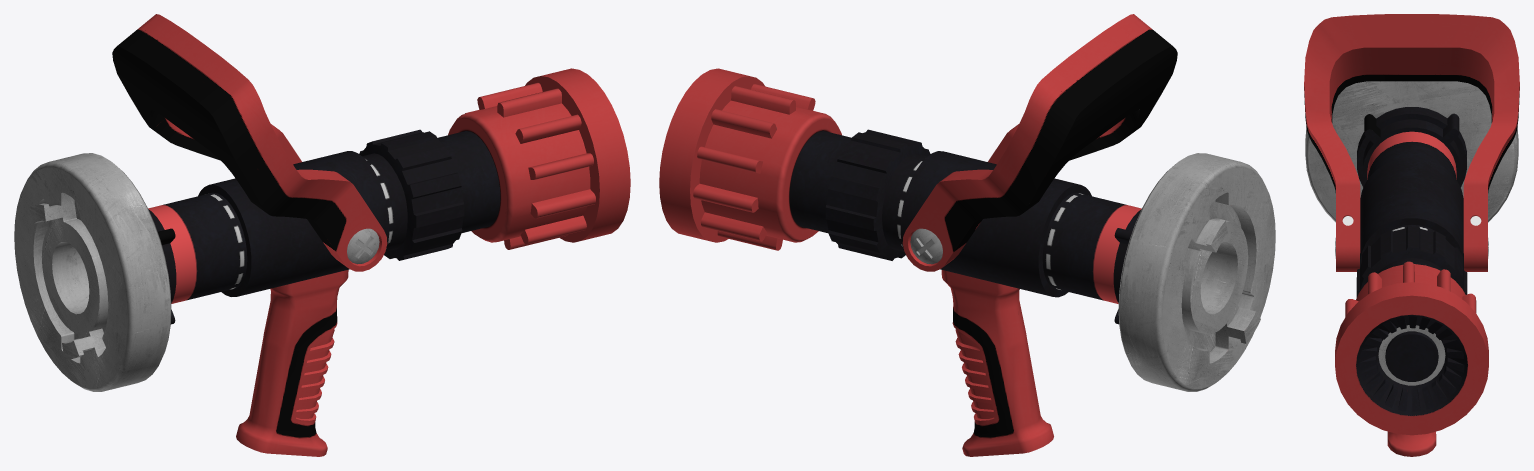
The model's file is Nozzle.fbx.
3 views of the same model, side by side, from view 1: azimuth 30°, elevation 25°; view 2: azimuth 150°, elevation 25°; view 3: azimuth 270°, elevation 25° (orthographic). The views are drawn at different scales.
Parts seen in each view (by area): view 1: Nozzle, Handle, Roller; view 2: Nozzle, Handle, Roller; view 3: Nozzle, Handle, Roller.
Part boxes in pixels (x1,y1,x2,y2): Nozzle: (14,68,630,456); Handle: (112,14,387,271); Roller: (359,129,464,260); Nozzle: (659,68,1275,456); Handle: (902,14,1177,271); Roller: (825,129,930,260); Nozzle: (1305,81,1518,456); Handle: (1304,14,1519,271); Roller: (1356,226,1467,297).
Size of the model in its own units: 477 by 370 by 185.
